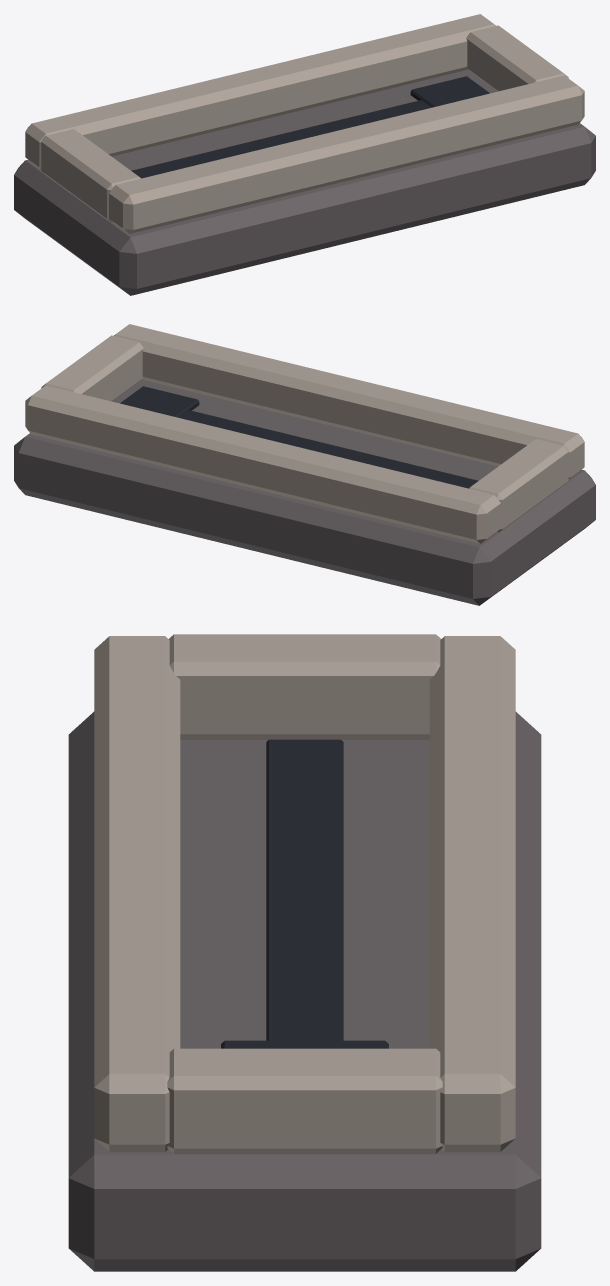
Rendered from 09_Casting_Mould.glb.
3 views of the same model, one above another, from view 1: azimuth 30°, elevation 25°; view 2: azimuth 150°, elevation 25°; view 3: azimuth 270°, elevation 25° (orthographic). The views are drawn at different scales.
Visible parts, largest first — view 1: 09_Casting_Mould__Body; view 2: 09_Casting_Mould__Body; view 3: 09_Casting_Mould__Body.
Part boxes in pixels (bbox=[...]): 09_Casting_Mould__Body: bbox=[14, 14, 595, 295]; 09_Casting_Mould__Body: bbox=[14, 324, 595, 605]; 09_Casting_Mould__Body: bbox=[68, 634, 541, 1271].
Bounding box in the file's own units: 2.56 × 0.5 × 1.1.
1 material, 1 textured.
